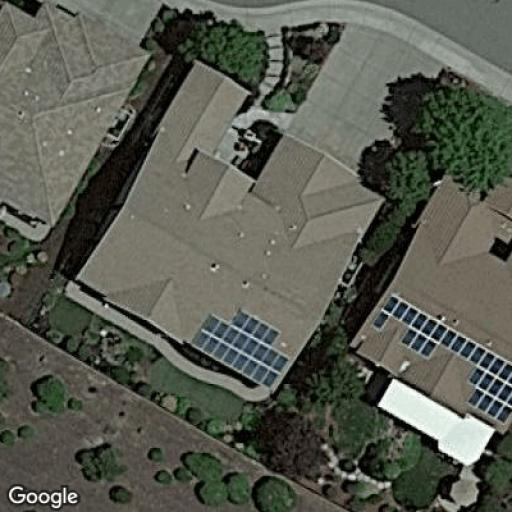solar-panel: (373, 291, 512, 424), (188, 305, 292, 389)
